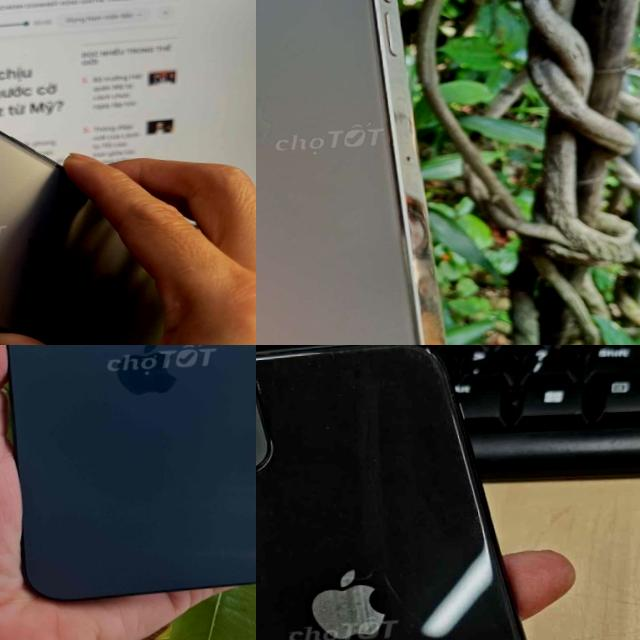scratch: (292, 556, 443, 640), (275, 345, 484, 405)
